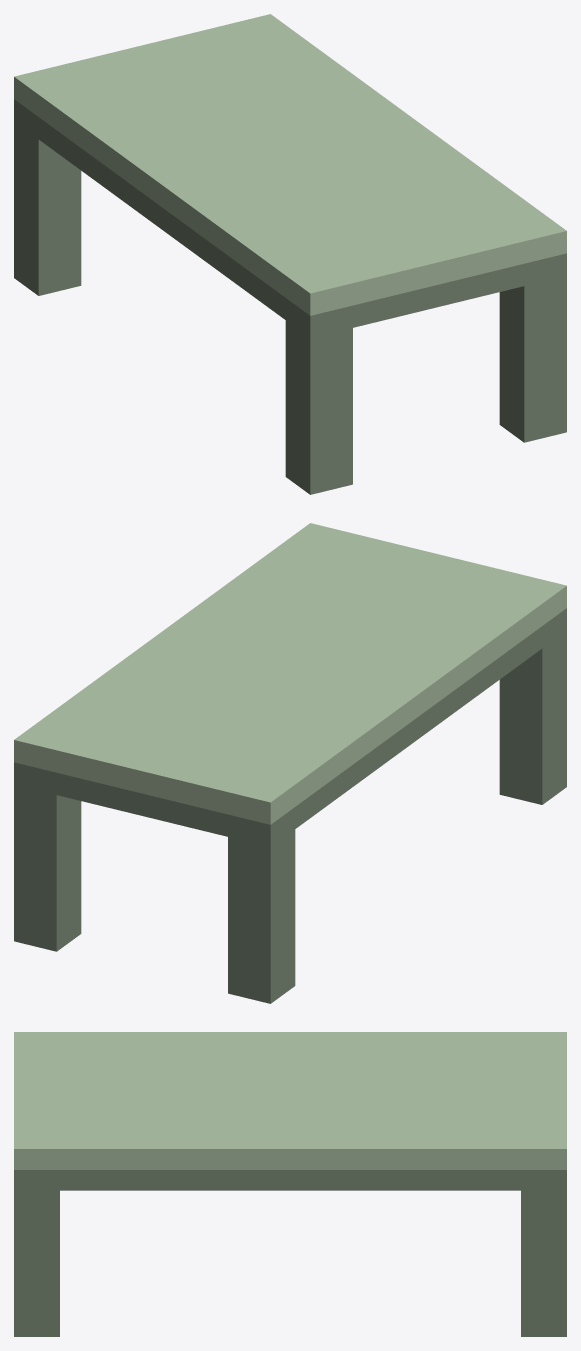
Rendered from mesa_alquimia_mica_01.glb.
3 renders of one model, top to bottom at view 1: azimuth 30°, elevation 25°; view 2: azimuth 150°, elevation 25°; view 3: azimuth 270°, elevation 25°, orthographic. The views are drawn at different scales.
Parts seen in each view (by area): view 1: mesa_alquimia_mica; view 2: mesa_alquimia_mica; view 3: mesa_alquimia_mica.
Boxes of the visible parts, left/top/right/bottom form: mesa_alquimia_mica: left=14, top=14, right=566, bottom=494; mesa_alquimia_mica: left=14, top=523, right=566, bottom=1003; mesa_alquimia_mica: left=14, top=1032, right=566, bottom=1336.
Bounding box in the file's own units: 1 × 0.75 × 2.
